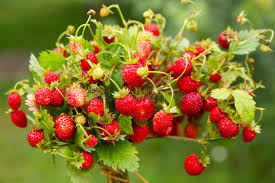ripe: (93, 112, 123, 145), (119, 58, 149, 90), (179, 87, 207, 121), (151, 103, 175, 137), (132, 93, 154, 123), (176, 72, 203, 96), (115, 89, 137, 117), (168, 54, 192, 79), (85, 95, 108, 120), (182, 153, 207, 176), (53, 112, 72, 142), (215, 28, 240, 50), (128, 119, 149, 145), (218, 113, 238, 138), (181, 118, 201, 139), (78, 51, 98, 72), (26, 128, 46, 149), (33, 85, 51, 108), (43, 66, 61, 88), (140, 21, 162, 37), (241, 123, 257, 145), (6, 90, 22, 112), (10, 109, 28, 127), (77, 149, 91, 172), (193, 40, 211, 57), (98, 28, 116, 44), (50, 87, 66, 105), (51, 44, 68, 60), (207, 68, 223, 84), (209, 108, 225, 123), (84, 131, 96, 148), (80, 70, 96, 82), (204, 94, 218, 107)
unripe: (131, 26, 154, 60), (65, 85, 89, 105), (92, 65, 102, 82), (75, 113, 84, 124)
